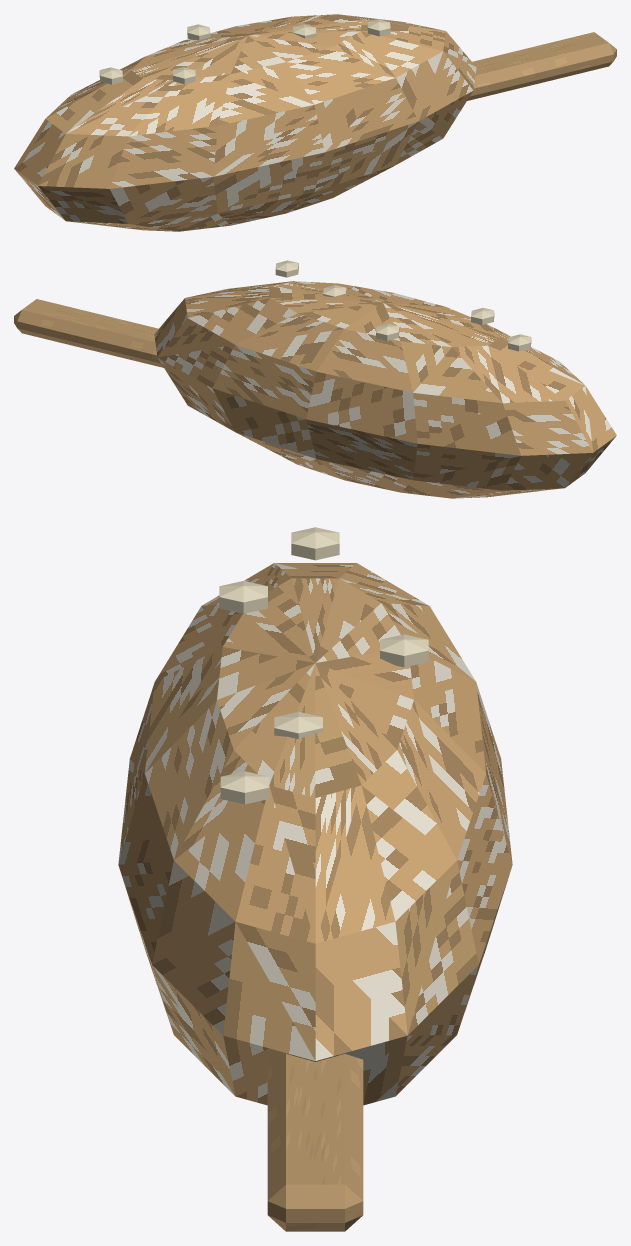
The model's file is corndogs_frozen.glb.
3 views of the same model, one above another, from view 1: azimuth 30°, elevation 25°; view 2: azimuth 150°, elevation 25°; view 3: azimuth 270°, elevation 25° (orthographic). The views are drawn at different scales.
Visible parts, largest first — view 1: block_oval battered sausage, block_flat wood stick, block_pale frost crystal (×4); view 2: block_oval battered sausage, block_flat wood stick, block_pale frost crystal (×4); view 3: block_oval battered sausage, block_flat wood stick, block_pale frost crystal (×5).
Boxes of the visible parts, x1=… form: block_oval battered sausage: x1=14, y1=14, x2=476, y2=231; block_flat wood stick: x1=467, y1=32, x2=616, y2=100; block_pale frost crystal (×4): x1=99, y1=19, x2=390, y2=84; block_oval battered sausage: x1=154, y1=281, x2=616, y2=498; block_flat wood stick: x1=14, y1=299, x2=163, y2=367; block_pale frost crystal (×4): x1=275, y1=260, x2=531, y2=351; block_oval battered sausage: x1=118, y1=563, x2=512, y2=1105; block_flat wood stick: x1=267, y1=1054, x2=363, y2=1231; block_pale frost crystal (×5): x1=219, y1=527, x2=428, y2=804.
Size of the model in its own units: 0.153 by 0.0438 by 0.0448.
Materials: 1 (1 with a texture image).
